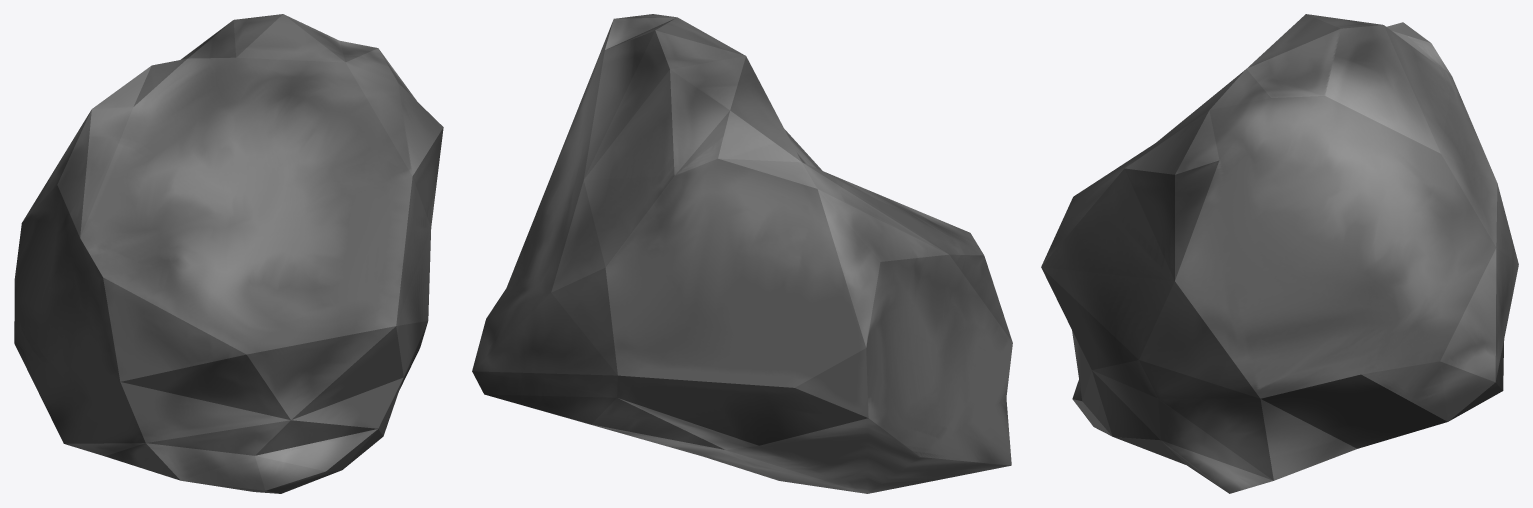
Rendered from Stone.fbx.
3 renders of one model, left to right at view 1: azimuth 30°, elevation 25°; view 2: azimuth 150°, elevation 25°; view 3: azimuth 270°, elevation 25°, orthographic. The views are drawn at different scales.
Visible parts, largest first — view 1: Stone; view 2: Stone; view 3: Stone.
Part boxes in pixels (x1,y1,x2,y2): Stone: (14,14,443,493); Stone: (472,14,1012,493); Stone: (1041,14,1518,493).
Size of the model in its own units: 419 by 423 by 396.
Materials: 1 (1 with a texture image).
